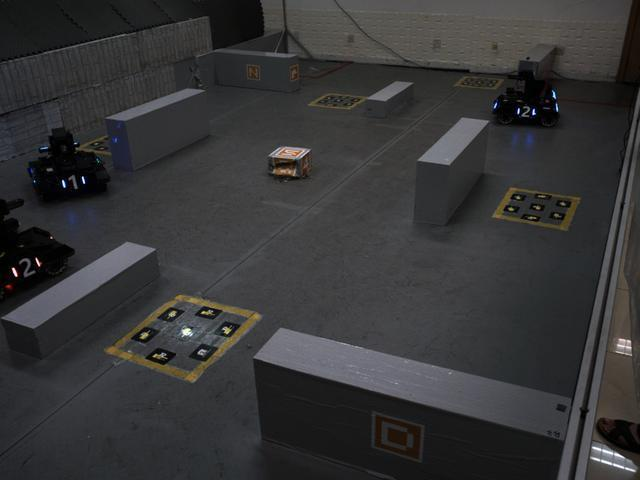armor: (7, 256, 42, 287), (59, 172, 89, 193), (515, 100, 538, 122)
